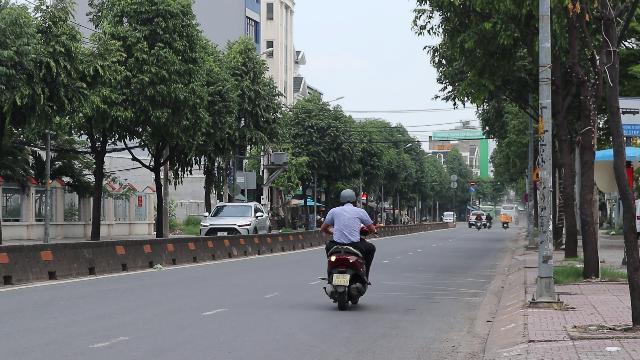helmet: (338, 188, 356, 204)
licenseplate: (333, 273, 349, 285)
motorcyclist: (319, 187, 377, 309)
